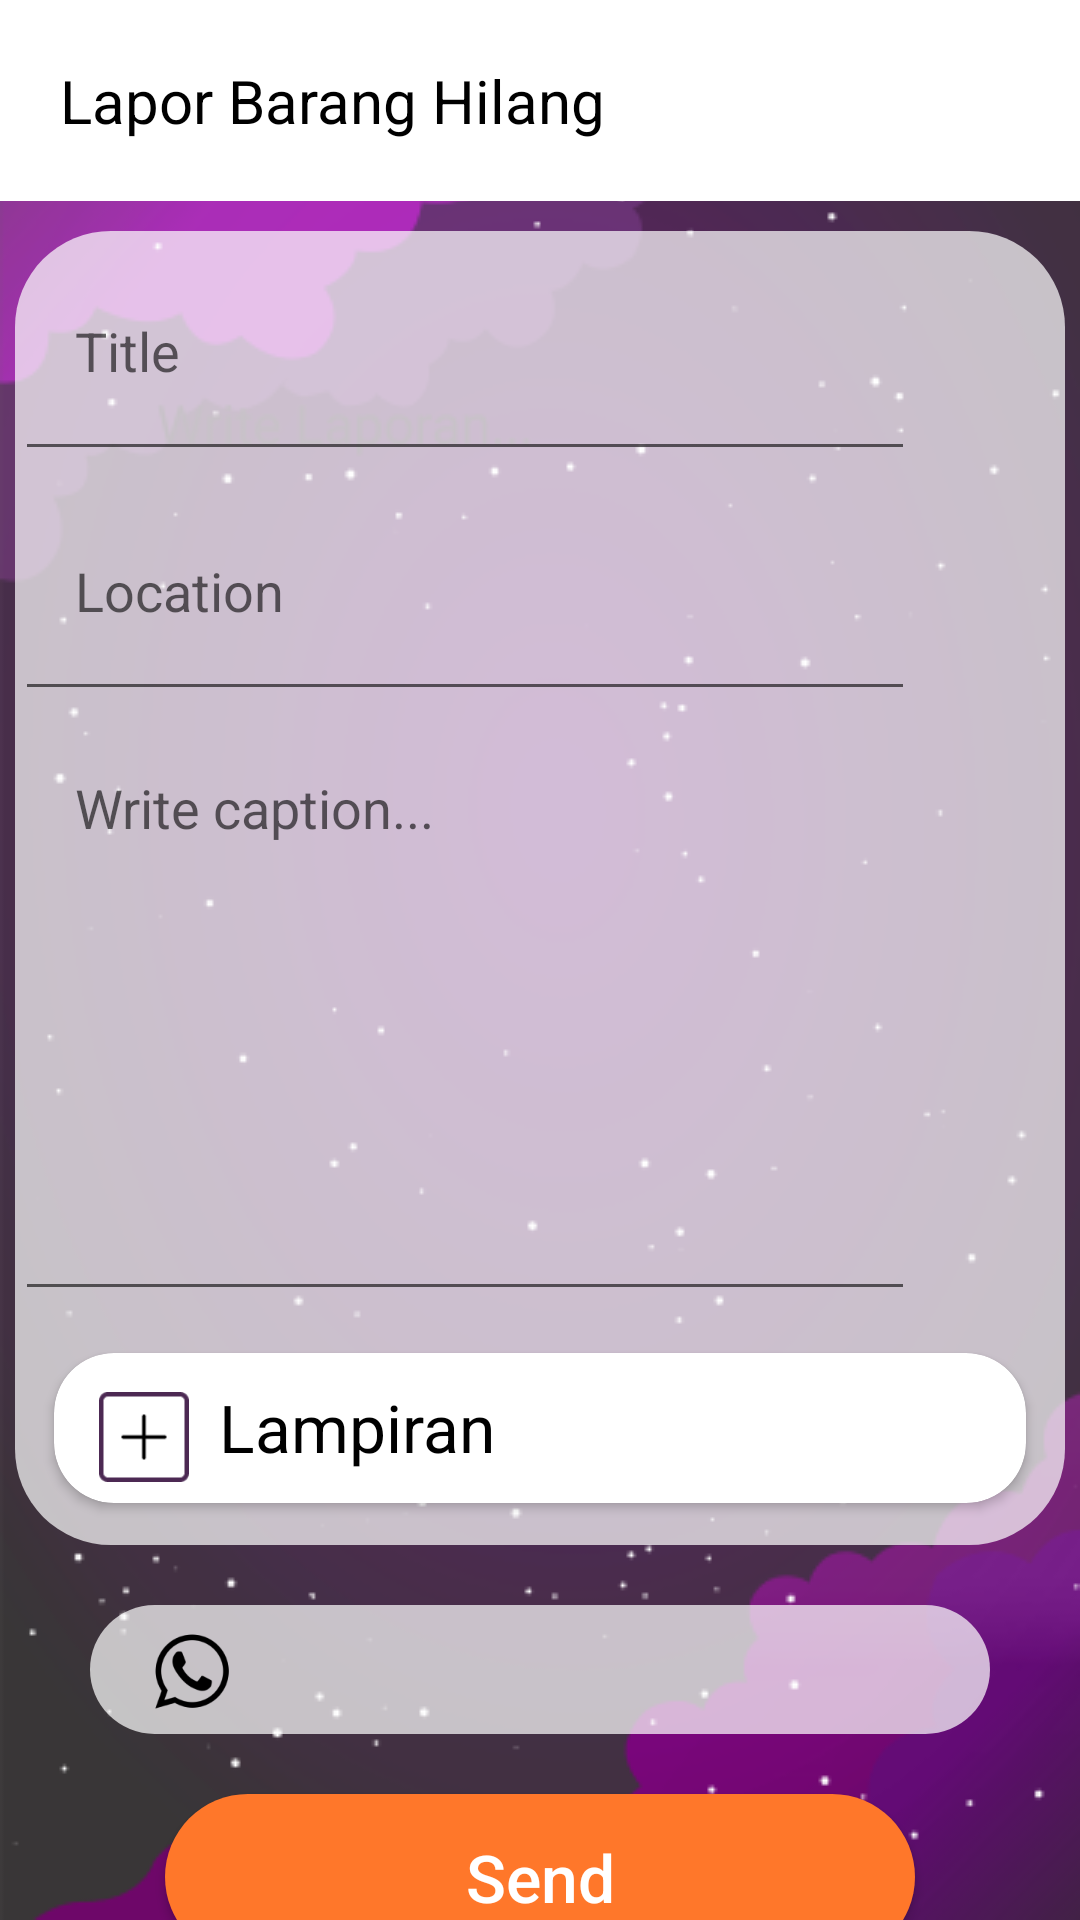

Icons on this 1080 × 1920 Android screen, each with the point to tap as (x=x, y=y):
add: (x=144, y=1437)
